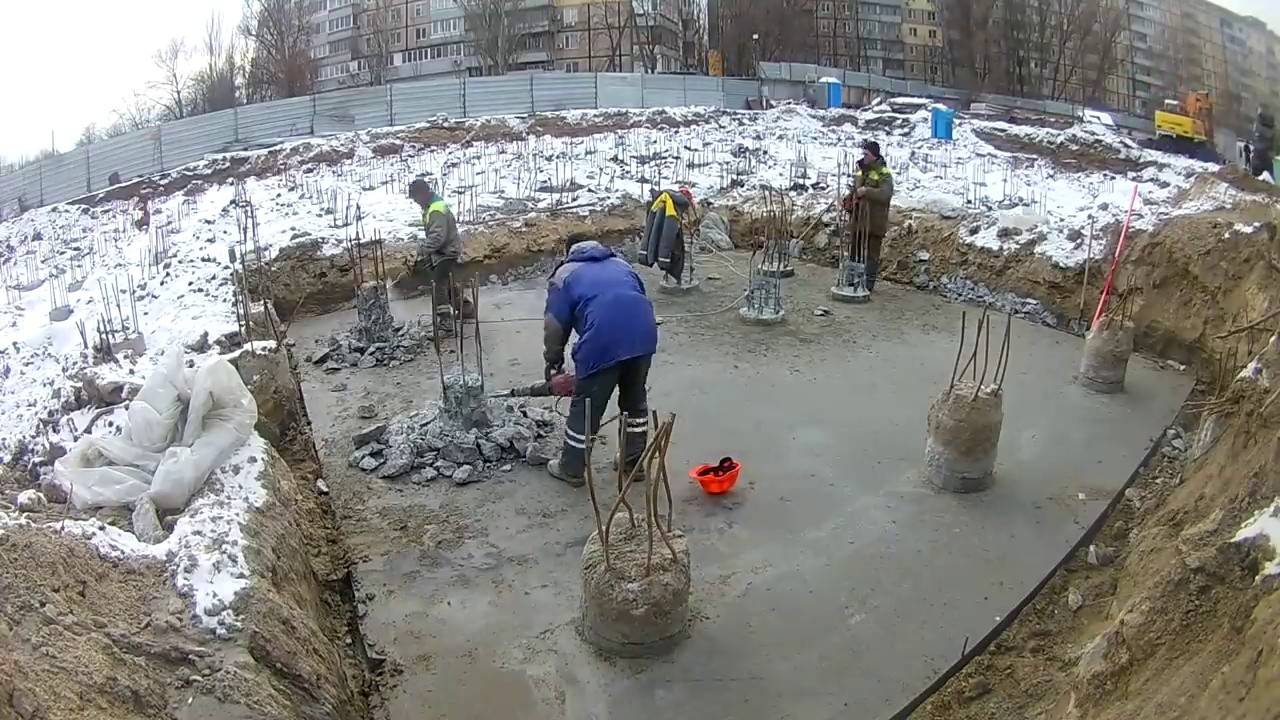helmet: (688, 456, 741, 496)
helmet-off: (408, 179, 433, 207), (859, 142, 882, 168)
person: (541, 232, 660, 488), (408, 181, 460, 341), (848, 142, 895, 296)
